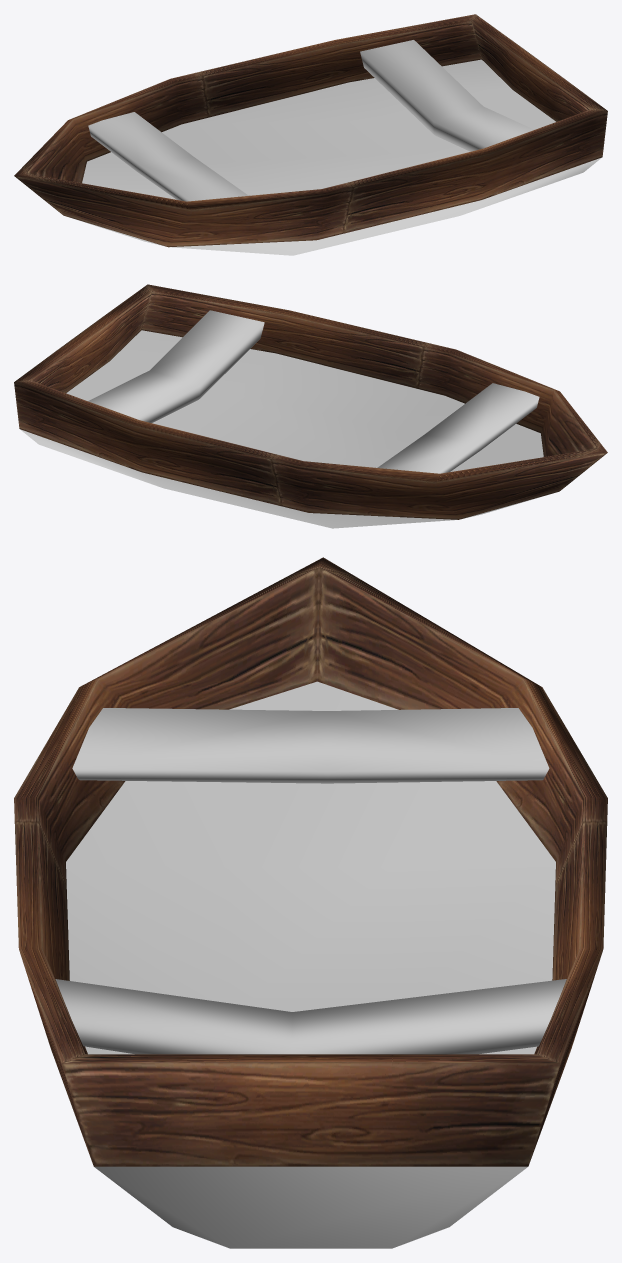
The model's file is rowboat01.obj.
3 renders of one model, top to bottom at view 1: azimuth 30°, elevation 25°; view 2: azimuth 150°, elevation 25°; view 3: azimuth 270°, elevation 25°, orthographic. The views are drawn at different scales.
Parts seen in each view (by area): view 1: ROWBOAT010, ROWBOAT011; view 2: ROWBOAT010, ROWBOAT011; view 3: ROWBOAT011, ROWBOAT010.
Part boxes in pixels (bbox=[...]): ROWBOAT010: bbox=[14, 14, 607, 247]; ROWBOAT011: bbox=[71, 40, 601, 255]; ROWBOAT010: bbox=[14, 284, 607, 519]; ROWBOAT011: bbox=[20, 310, 550, 528]; ROWBOAT011: bbox=[55, 681, 566, 1248]; ROWBOAT010: bbox=[14, 557, 607, 1166].
Size of the model in its own units: 8.34 by 1.66 by 4.29.
